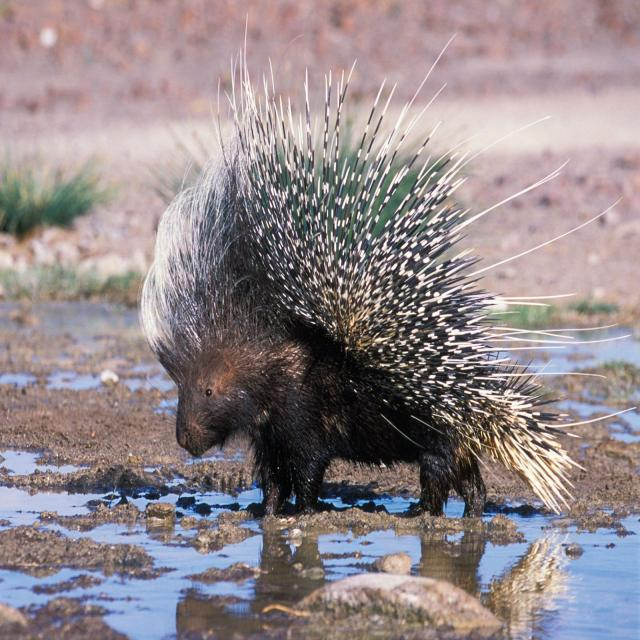Porcupine: (138, 96, 529, 517)
